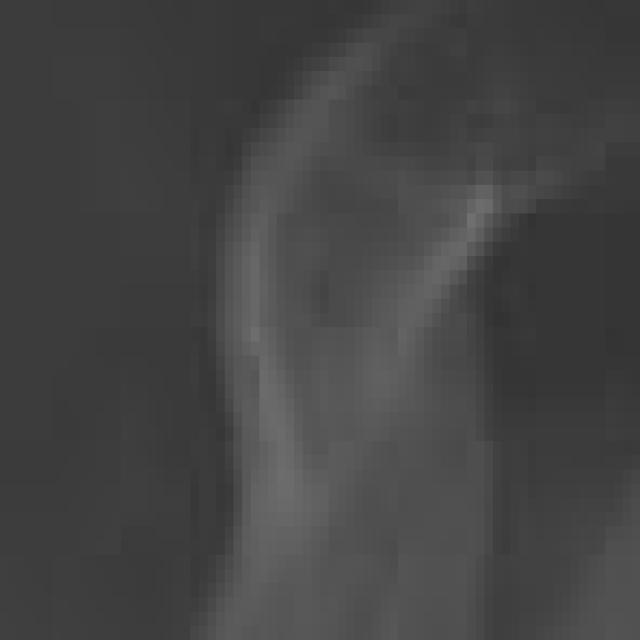fracture: (0, 11, 638, 640)
